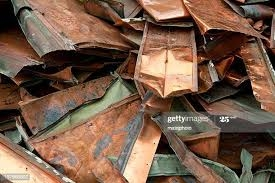metal: (13, 72, 171, 183), (176, 1, 275, 118), (6, 1, 133, 65), (128, 11, 209, 107), (150, 108, 232, 183)
